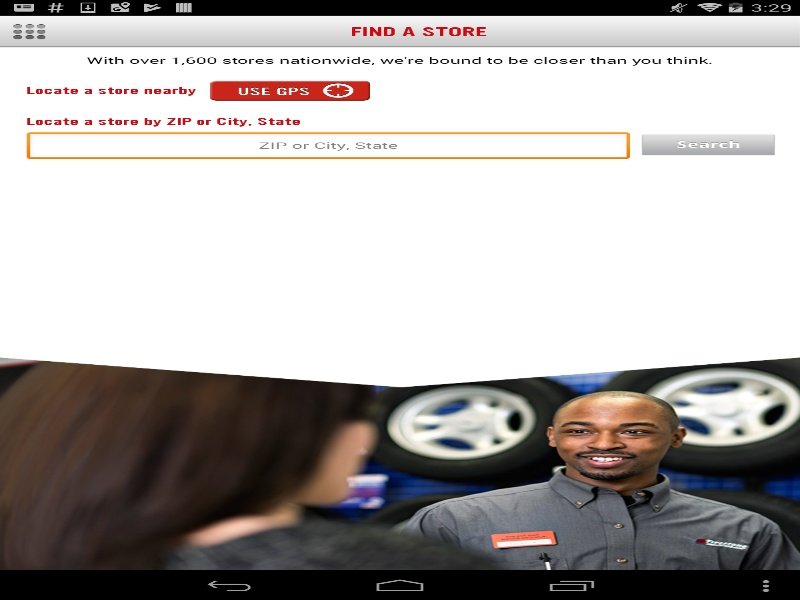Input: (26, 131, 630, 161)
